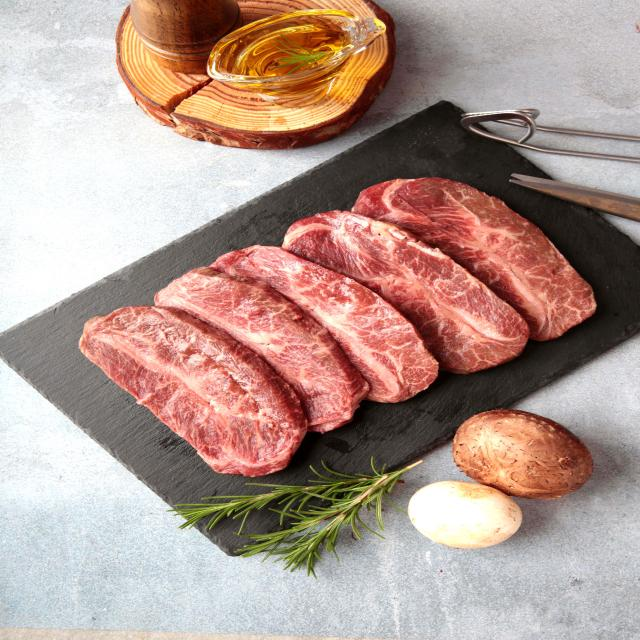beef: (346, 242, 534, 335), (164, 314, 343, 407)
